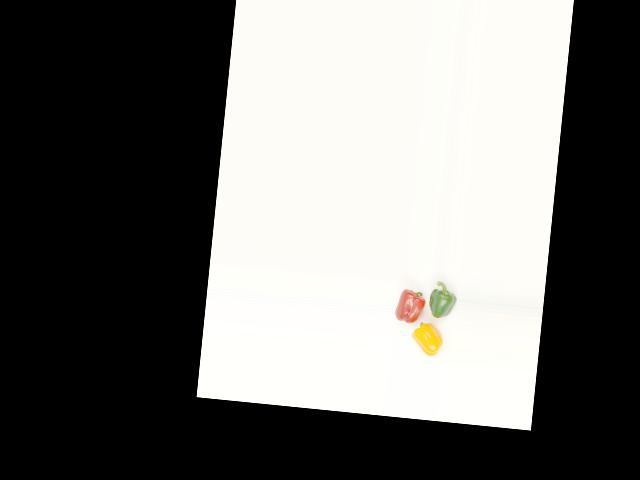bell_pepper: (426, 279, 458, 320)
